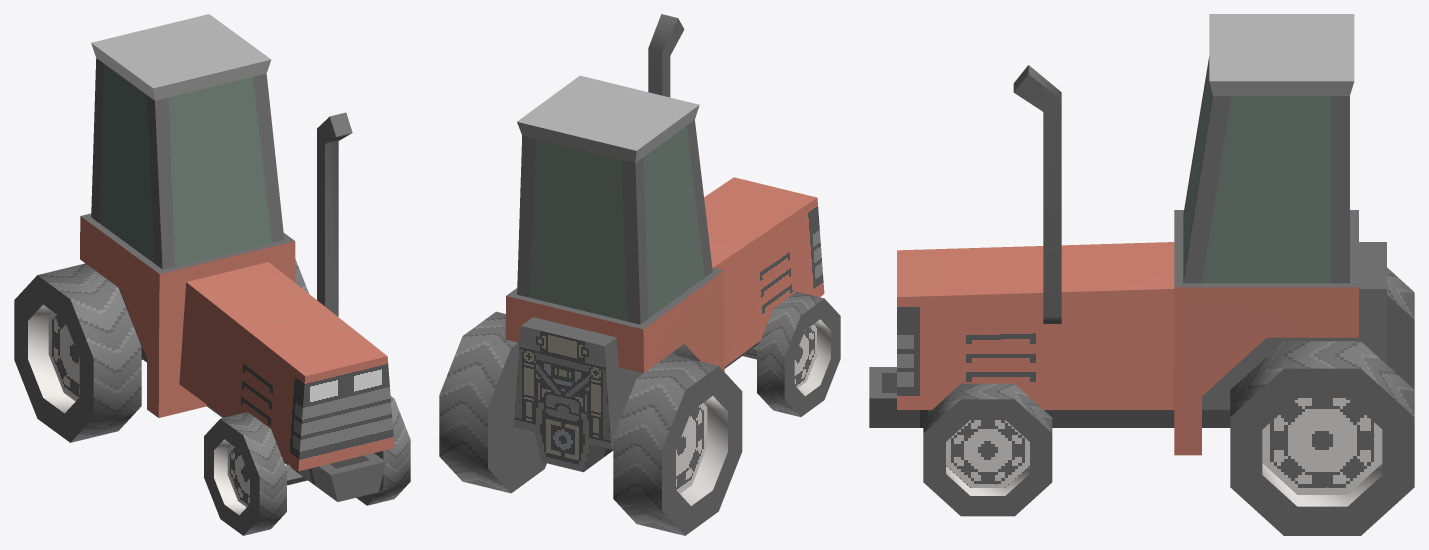
File: 0099_Tractor.glb
3 renders of one model, left to right at view 1: azimuth 30°, elevation 25°; view 2: azimuth 150°, elevation 25°; view 3: azimuth 270°, elevation 25°, orthographic. The views are drawn at different scales.
Visible parts, largest first — view 1: part_0, part_2, part_1; view 2: part_0, part_2, part_1; view 3: part_0, part_2, part_1.
Boxes of the visible parts, x1,y1,x2,y2 form: part_0: (80,14,394,501); part_2: (14,259,308,442); part_1: (204,396,410,535); part_0: (505,14,824,472); part_2: (439,311,742,535); part_1: (757,291,840,417); part_0: (869,14,1386,455); part_2: (1230,267,1414,535); part_1: (923,383,1052,516).
Size of the model in its own units: 1.6 by 2.57 by 2.95.
3 materials, 3 textured.
